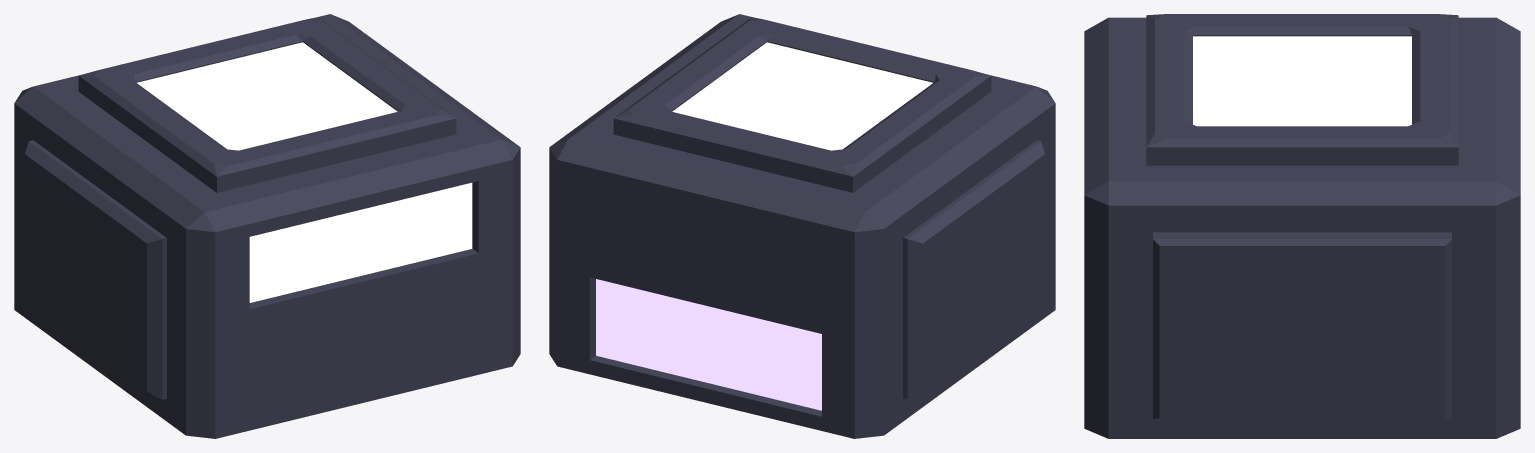
Rendered from Trash1.fbx.
3 renders of one model, left to right at view 1: azimuth 30°, elevation 25°; view 2: azimuth 150°, elevation 25°; view 3: azimuth 270°, elevation 25°, orthographic. The views are drawn at different scales.
Parts seen in each view (by area): view 1: Куб.002; view 2: Куб.002; view 3: Куб.002.
Part boxes in pixels (x1,y1,x2,y2): Куб.002: (14,14,520,438); Куб.002: (549,14,1055,438); Куб.002: (1084,14,1520,438).
Bounding box in the file's own units: 49.06 × 30.61 × 44.8.
